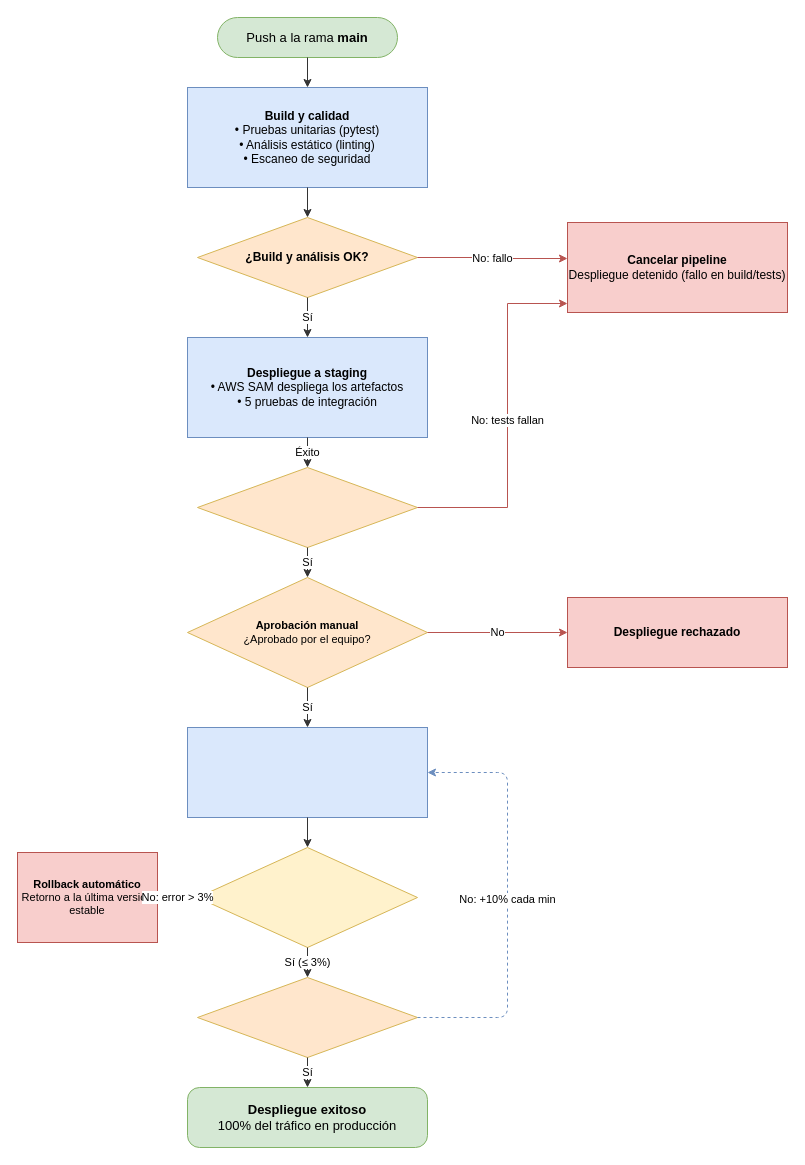
This 805x1165 diagram has some shape labels left out. Each missing label, with the box of its shape:
Deploy Canary • Inicio: 10% del tráfico • +10% cada minuto: (186, 726, 428, 818)
Monitoreo CloudWatch ¿Error rate ≤ 3%?: (196, 846, 418, 948)
¿100% desplegado?: (196, 976, 418, 1058)
¿5 pruebas OK?: (196, 466, 418, 548)
